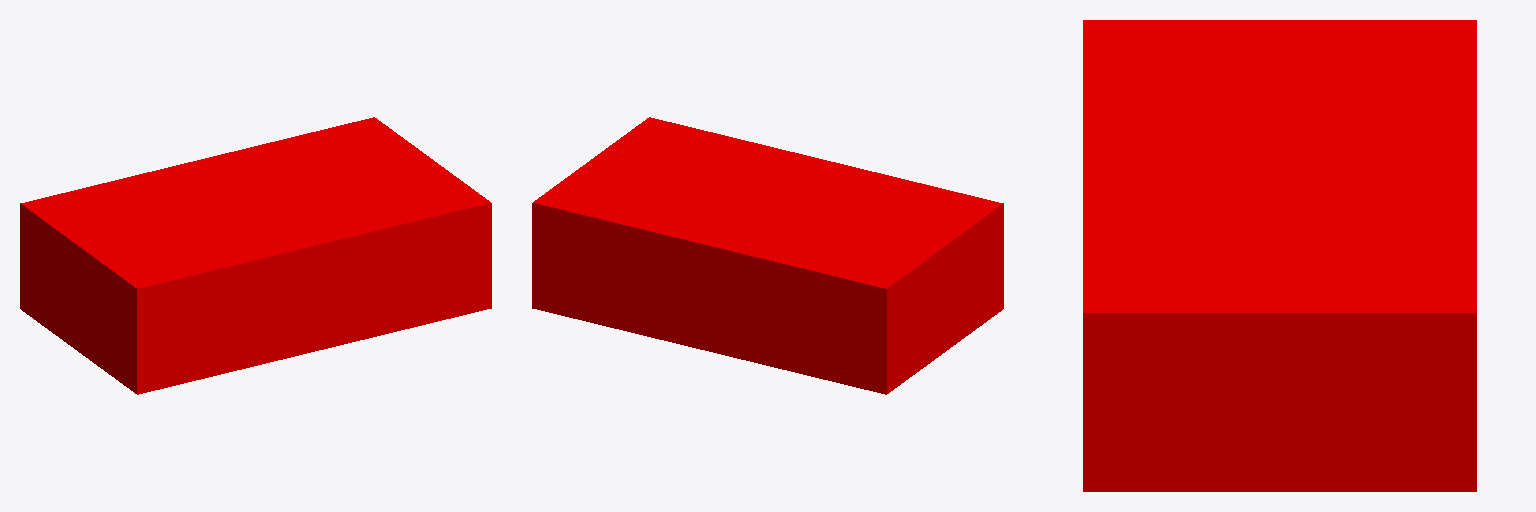
URDF robot description (RedCubeDE7):
<?xml version="1.0"?>
<robot name="RedCubeDE7">
	<link name="base">
<inertial>
<origin xyz="0 0 0" rpy="0 0 0"/>
<mass value="0.1"/>
<inertia ixx="0.000683333" ixy="0" ixz="0" iyy="0.000683333" iyz="0" izz="0.000683333"/>
</inertial>
		<visual>
			<origin xyz="0 0 0" rpy="0 0 0" />
			<geometry>
				<box size="0.07 0.04 0.02" />
			</geometry>
			<material>
				<color rgba="1 0 0 1" />
			</material>
		</visual>
	</link>
</robot>

--- What the picture shows (computed from the rendered views, not written in the file) ---
3 views of the same robot in one strip: view 1: azimuth 30°, elevation 25°; view 2: azimuth 150°, elevation 25°; view 3: azimuth 270°, elevation 25° (orthographic).
Robot: RedCubeDE7 — 1 links, 0 joints (none); root link base; default pose: every joint at zero.
Links seen in each view (by area): view 1: base; view 2: base; view 3: base.
Link boxes in pixels (x1,y1,x2,y2): base: (20, 117, 491, 394); base: (532, 117, 1003, 394); base: (1083, 20, 1476, 491).
Bounding box of the posed robot: 0.07 × 0.04 × 0.02 m (x, y, z).
Geometry: primitives only (box / cylinder / sphere), no mesh files.
